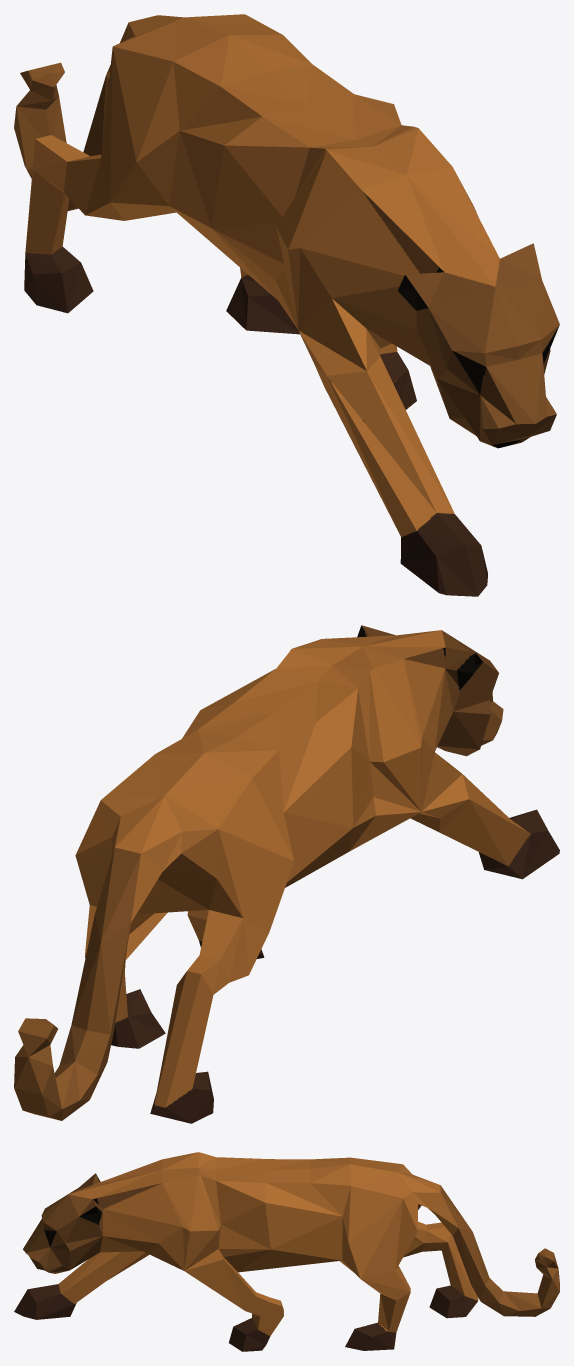
File: panter.dae
3 views of the same model, one above another, from view 1: azimuth 30°, elevation 25°; view 2: azimuth 150°, elevation 25°; view 3: azimuth 270°, elevation 25° (orthographic). The views are drawn at different scales.
Parts seen in each view (by area): view 1: Panter; view 2: Panter; view 3: Panter.
Boxes of the visible parts, x1,y1,x2,y2 form: Panter: (14,14,559,596); Panter: (14,625,559,1123); Panter: (14,1152,559,1351).
Size of the model in its own units: 26.3 by 108 by 36.17.
Materials: 1 (1 with a texture image).
